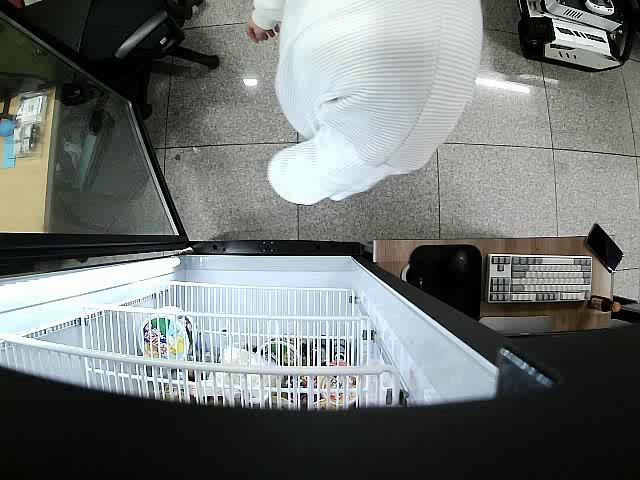00_hand: (246, 12, 281, 42)
